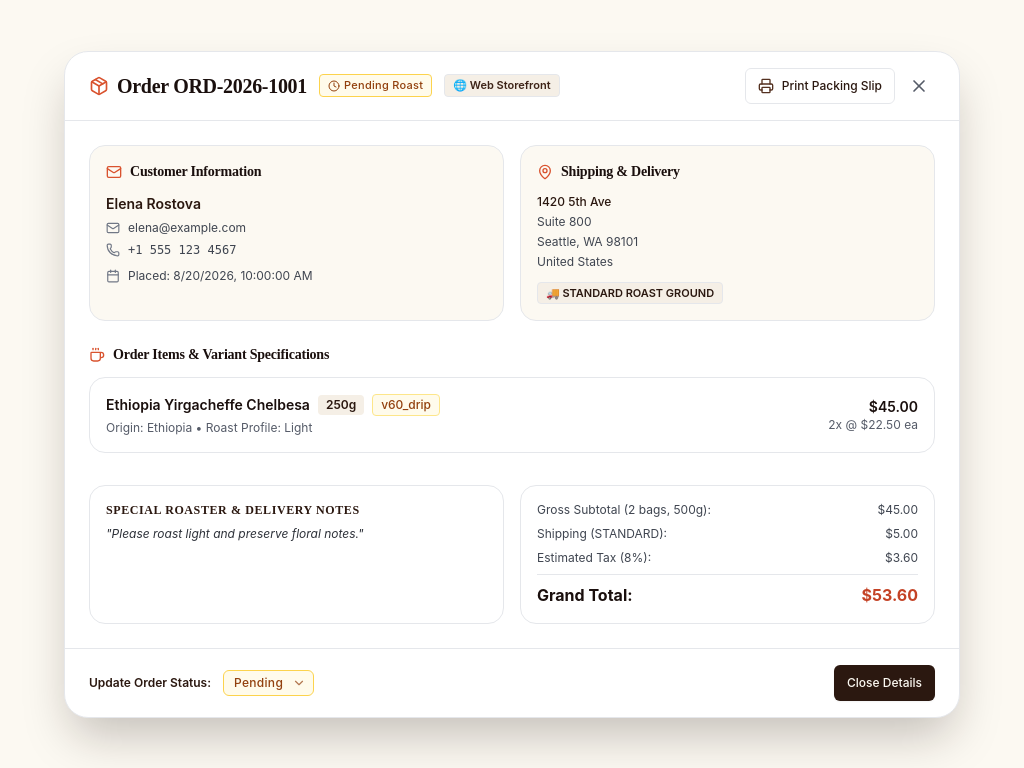
Admin UI Components — Unit Tests › OrderDetailModal › toggles printable Roastery Packing Slip & Grind Setting Tag
Click the button "Print Packing Slip": (820, 86) [745,68,895,104]
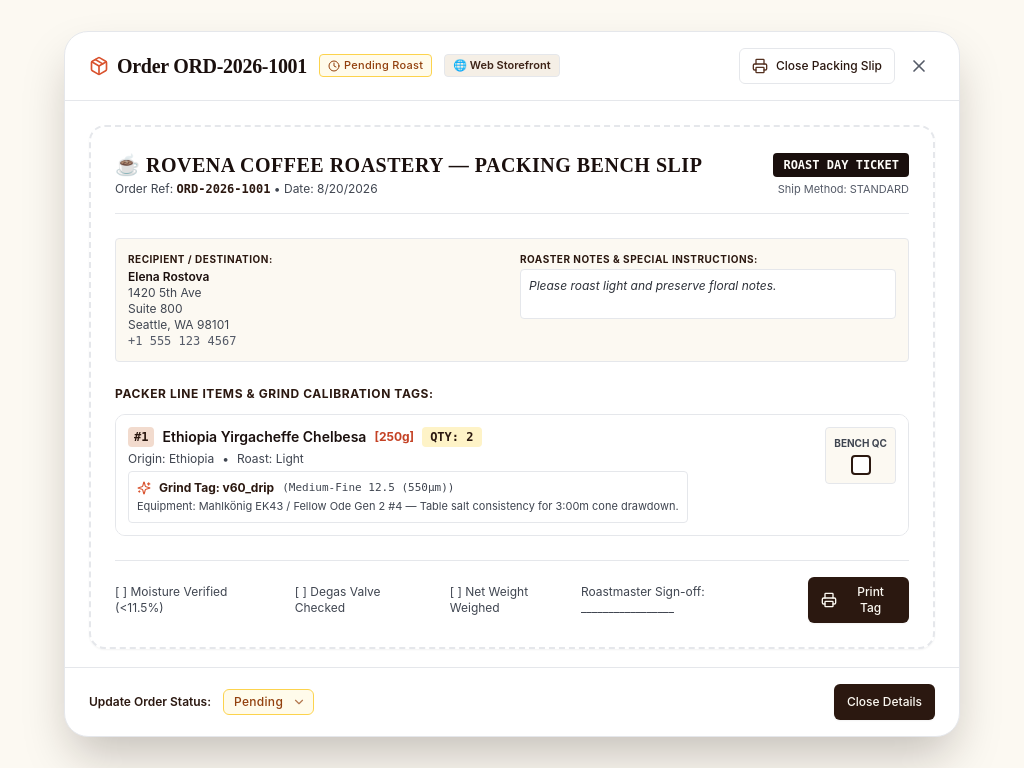
Now the element with test id "roastery-packing-slip" shows "Packing Bench Slip", box [115,154,702,176]
Now the element with test id "roastery-packing-slip" shows "Grind Tag: v60_drip", box [89,125,935,649]
Now the element with test id "roastery-packing-slip" shows "Bench QC", box [834,437,887,449]
